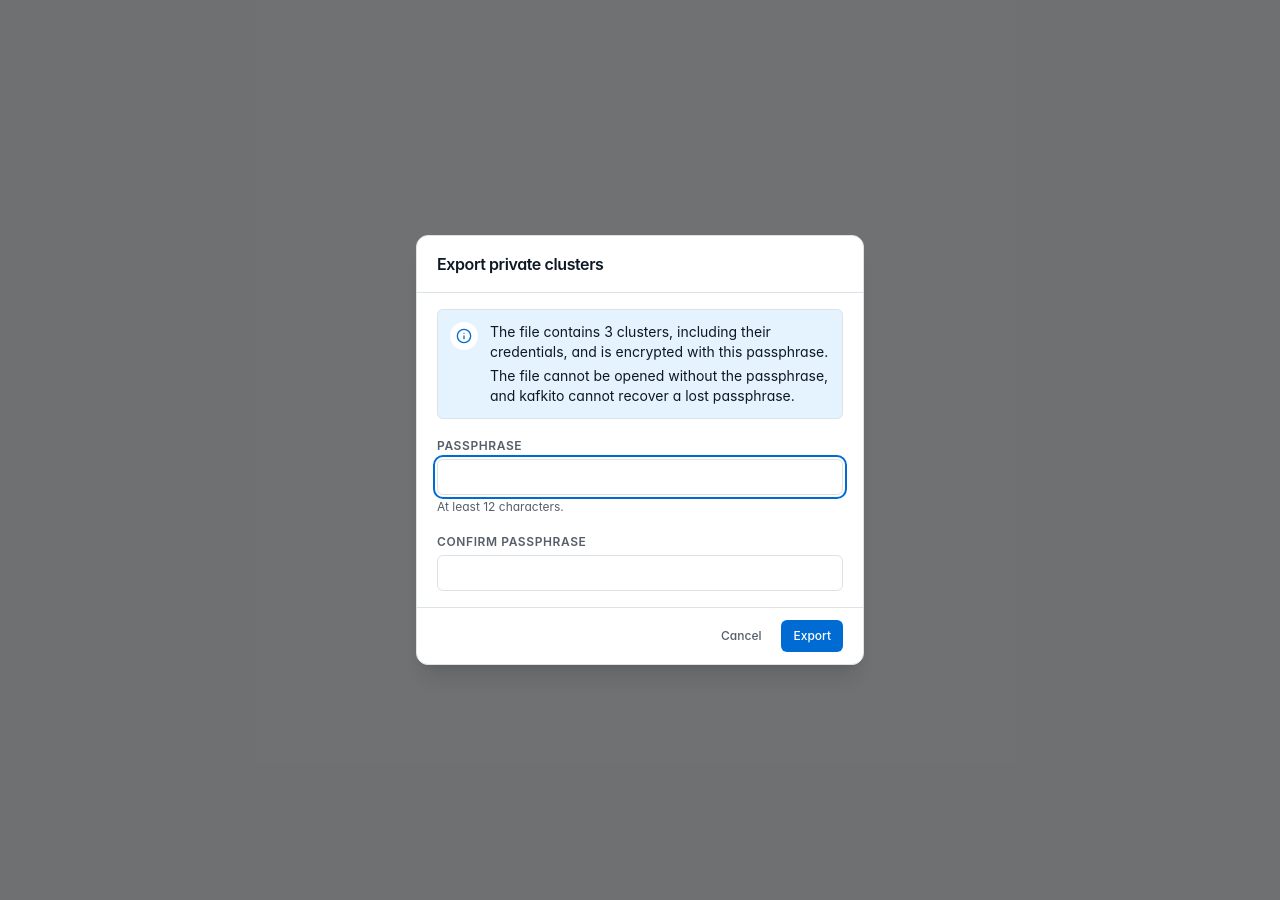
Test: ExportClustersModal › shows progress while it encrypts
In the password field labelled "Passphrase": (640, 477) [437,459,843,495], type "correct horse battery staple"
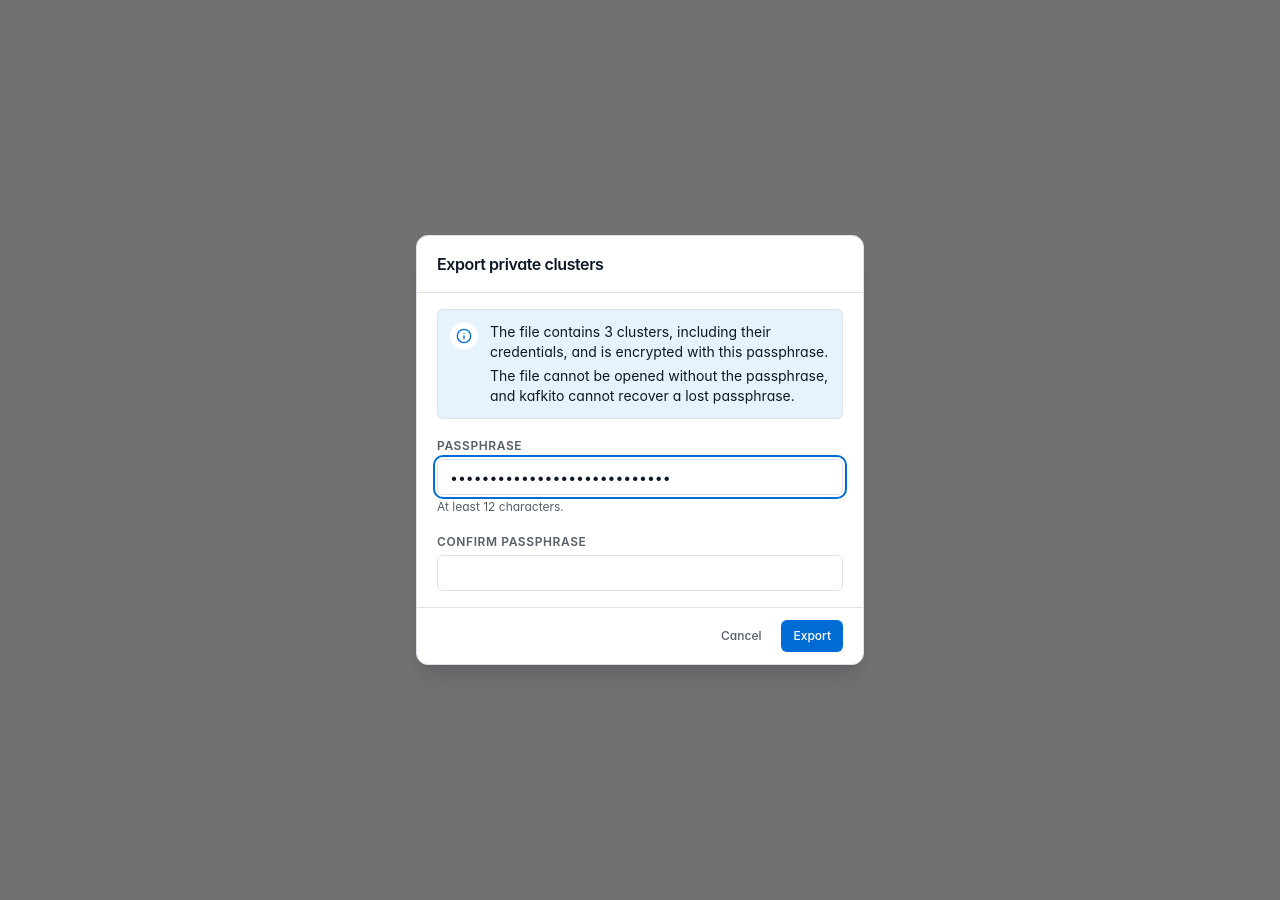
In the password field labelled "Confirm passphrase": (640, 573) [437,555,843,591], type "correct horse battery staple"
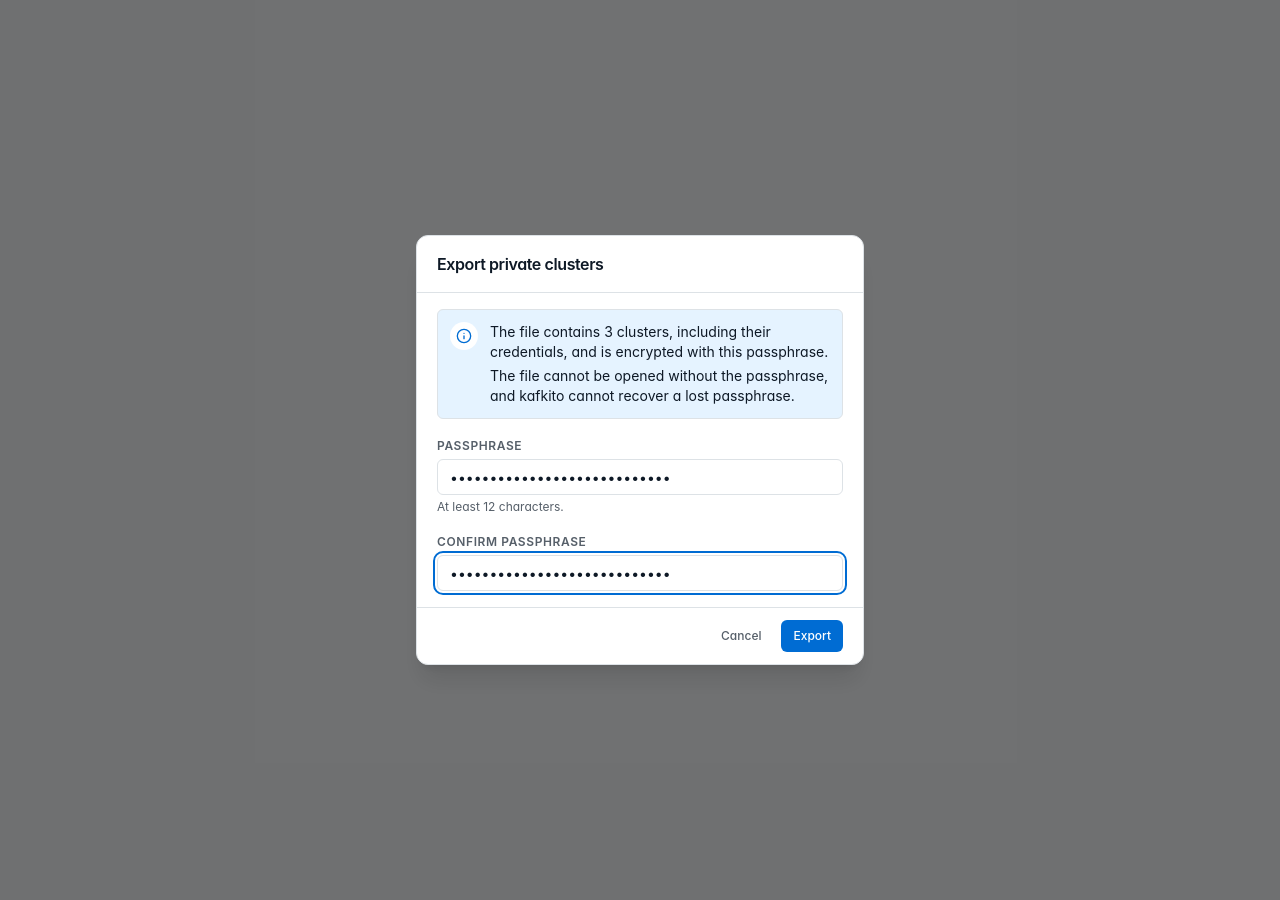
Click the button "Export": click(812, 636) [782,620,843,652]
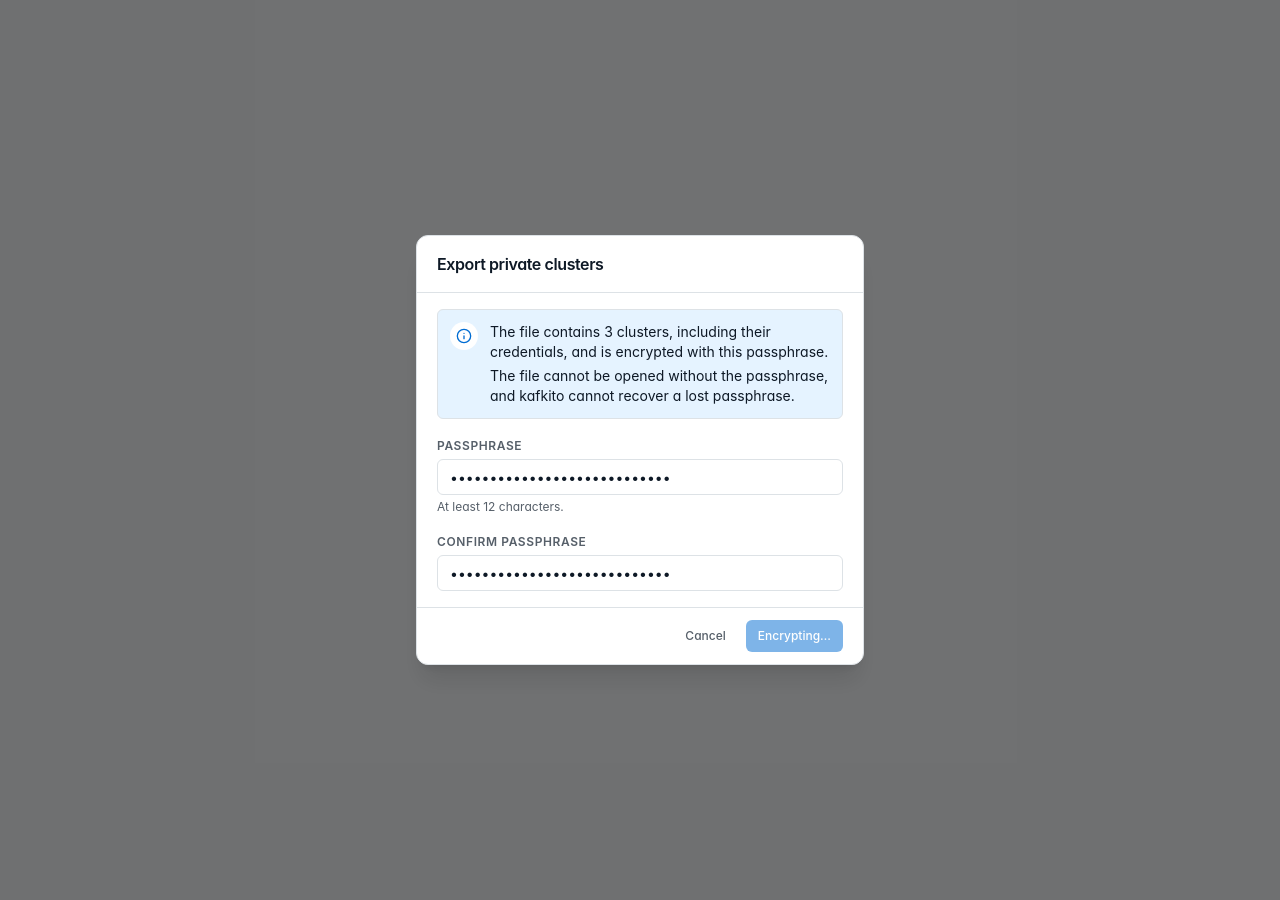
Now the button "Encrypting…" is disabled, box [746,620,843,652]
